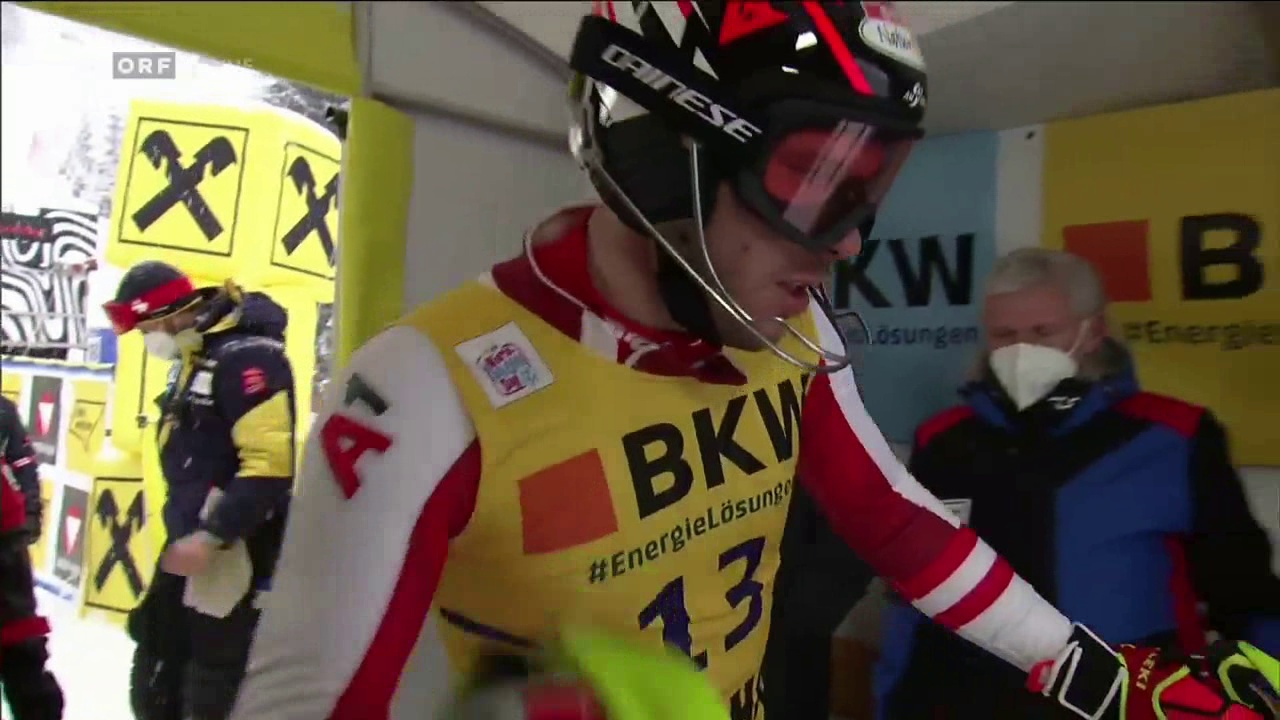a1: (317, 366, 402, 506)
raiffeisen: (122, 108, 253, 263), (76, 485, 165, 612), (271, 149, 351, 279)
unserheer: (21, 386, 67, 463), (53, 497, 89, 579)
